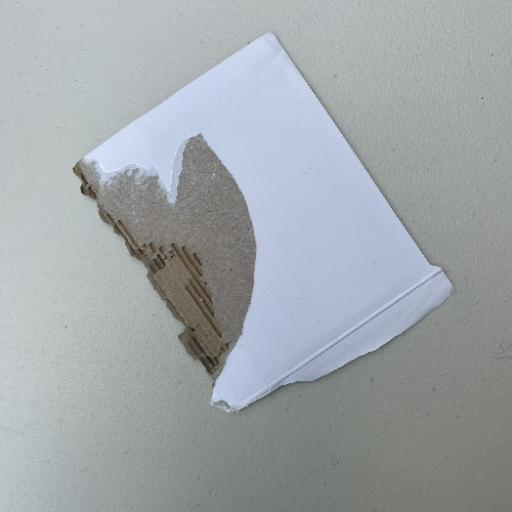Cardboard: (72, 30, 456, 414), (78, 131, 258, 379)
